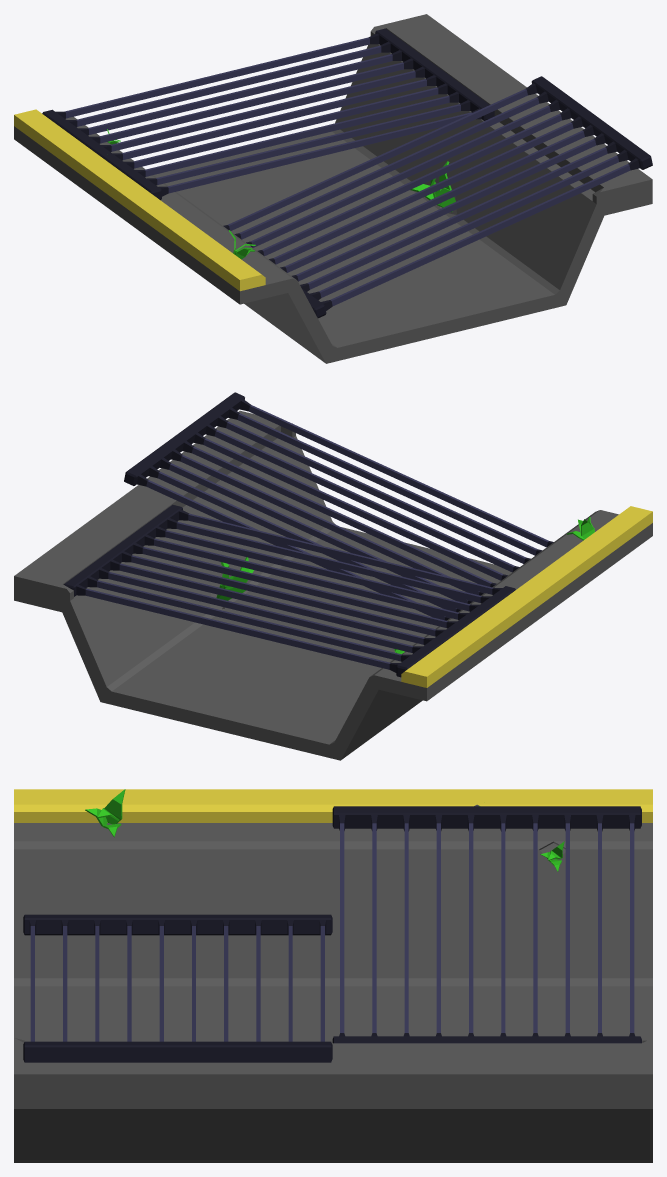
File: ModuloRejas.002.glb
3 views of the same model, one above another, from view 1: azimuth 30°, elevation 25°; view 2: azimuth 150°, elevation 25°; view 3: azimuth 270°, elevation 25° (orthographic). The views are drawn at different scales.
Visible parts, largest first — view 1: ModuloRejas.002; view 2: ModuloRejas.002; view 3: ModuloRejas.002.
Boxes of the visible parts, left/top/right/bottom form: ModuloRejas.002: left=14, top=14, right=652, bottom=363; ModuloRejas.002: left=14, top=392, right=652, bottom=760; ModuloRejas.002: left=14, top=789, right=652, bottom=1162.
Bounding box in the file's own units: 32.84 × 9.47 × 30.82.
